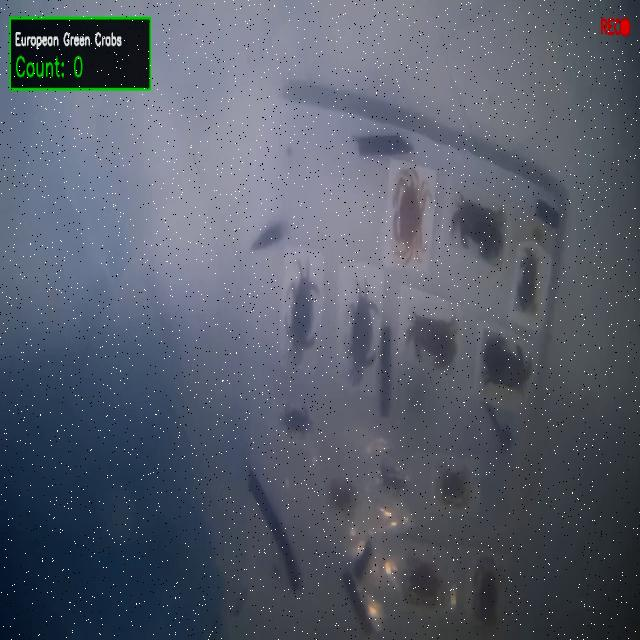European_Green_Crab: (282, 244, 322, 363), (340, 276, 381, 388), (376, 454, 408, 504), (281, 399, 315, 440)
